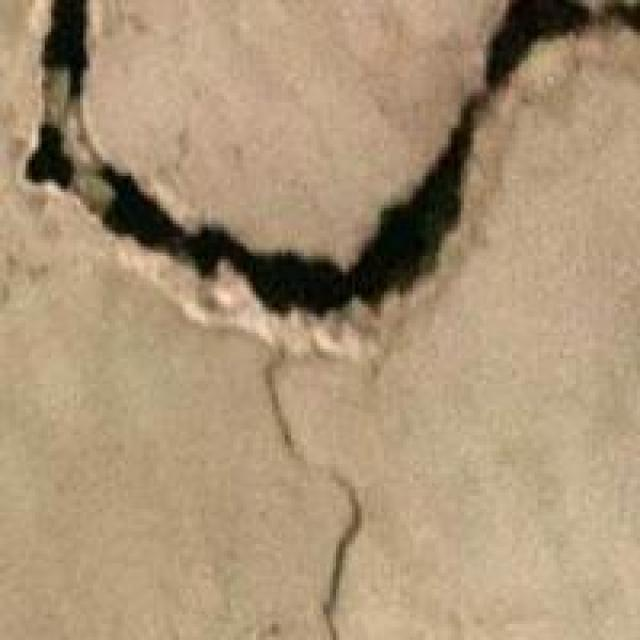Crack: (16, 0, 637, 384)
